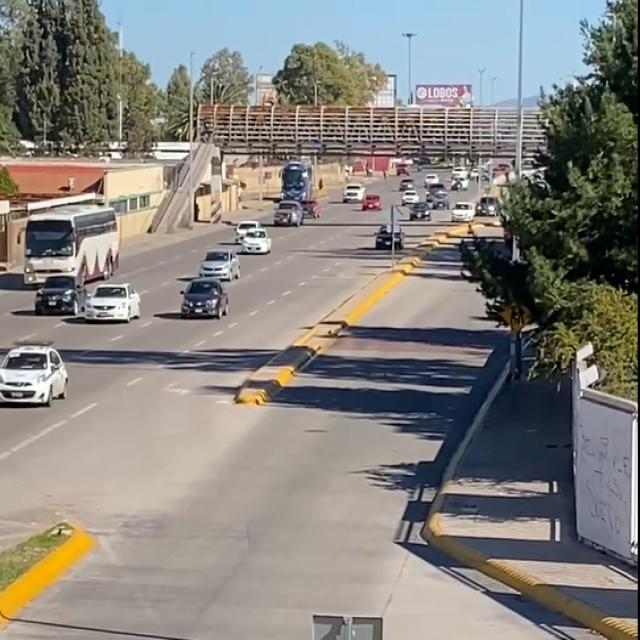Auto: (0, 345, 67, 410), (83, 286, 144, 326), (35, 274, 87, 318), (183, 278, 228, 317), (199, 252, 241, 282), (242, 232, 268, 254)
Autobus: (26, 204, 120, 287)
